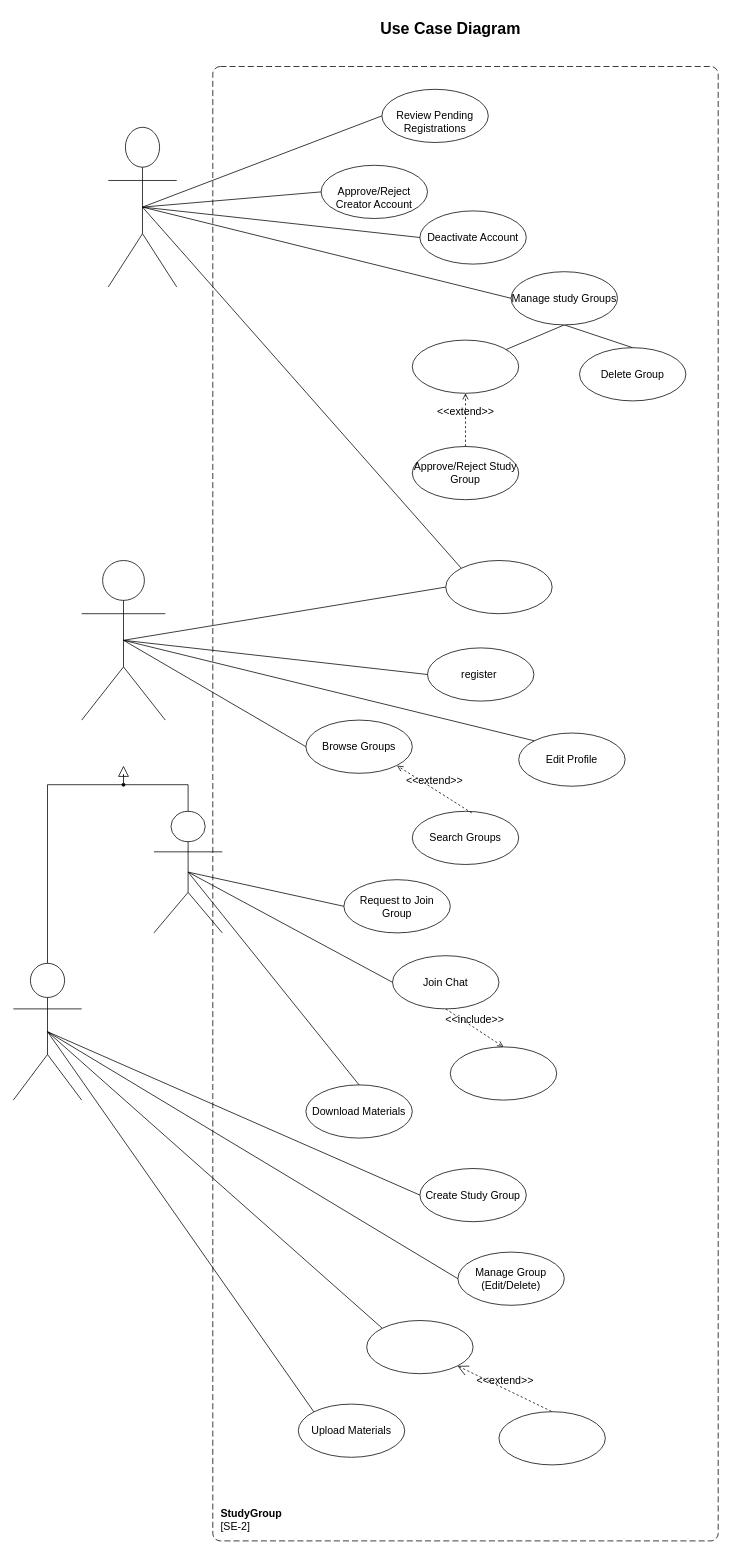
Some shapes in this 732 by 1554 pixel diagram are drawn without their labels. The centre of each missing label's shape, as x and y in pixels:
Accept/Reject Student: point (551, 1438)
Admin: point (142, 207)
Discussion (Real-time): point (503, 1073)
Group Creator: point (47, 1031)
Login / Logout: point (498, 587)
Review Join Requests: point (419, 1347)
Review New Study Groups: point (465, 366)
Student: point (187, 872)
user: point (123, 640)
